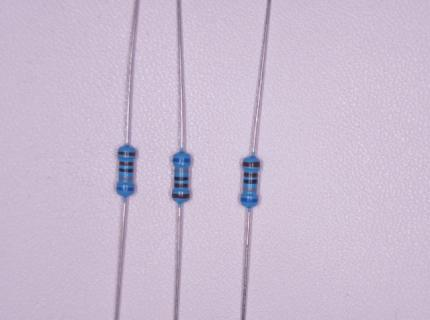Black band: (243, 179, 257, 184), (174, 176, 188, 181), (119, 168, 133, 173)
Blue band: (240, 197, 258, 203), (172, 158, 191, 162), (116, 187, 134, 191)
Brown band: (242, 161, 260, 167), (117, 151, 135, 156), (172, 193, 190, 198), (119, 161, 133, 166), (244, 173, 258, 178), (174, 183, 188, 187)
Grey band: (174, 168, 189, 173), (119, 175, 133, 180), (243, 187, 257, 191)
